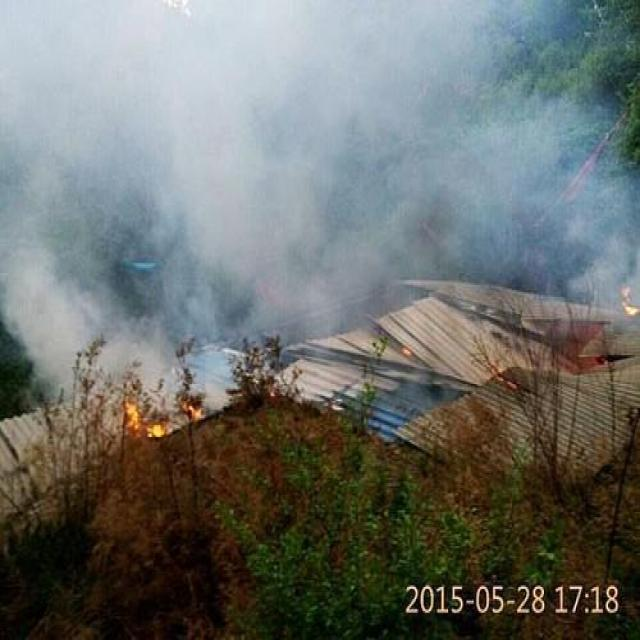fire: (121, 389, 170, 443), (179, 398, 209, 425), (401, 336, 408, 355)
smoke: (169, 51, 310, 272), (19, 268, 151, 378), (472, 107, 583, 206)
